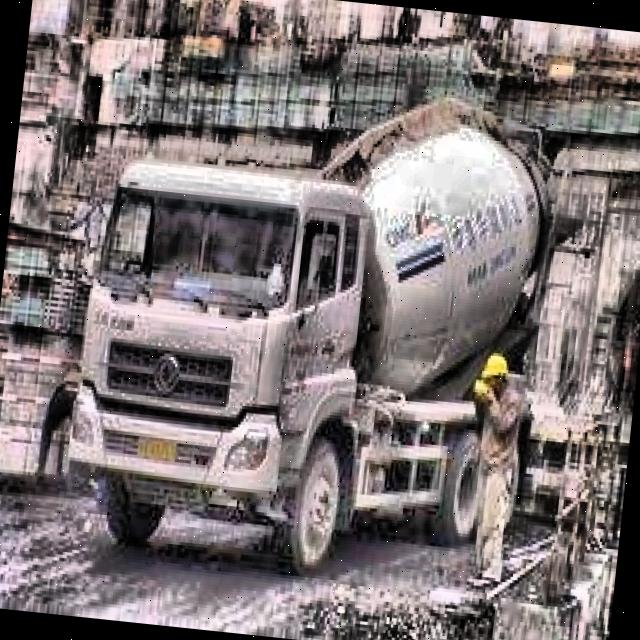helmet: (480, 352, 514, 396)
